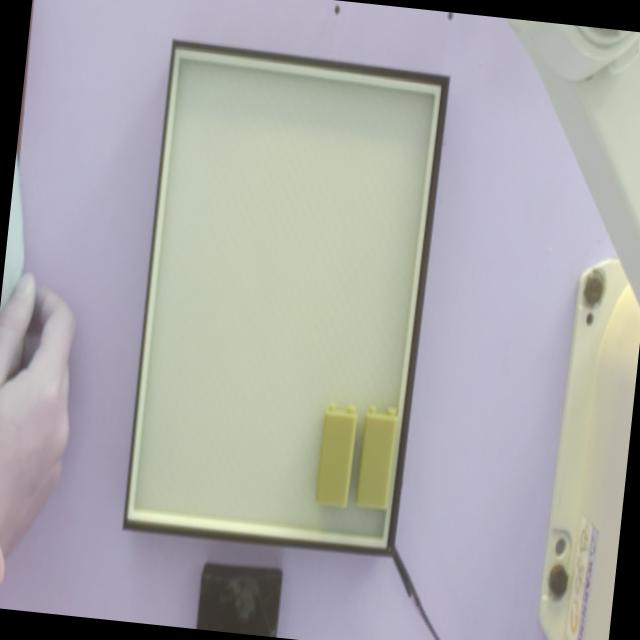bateria: (315, 403, 357, 506), (355, 406, 397, 509)
mesa: (121, 40, 449, 558)
